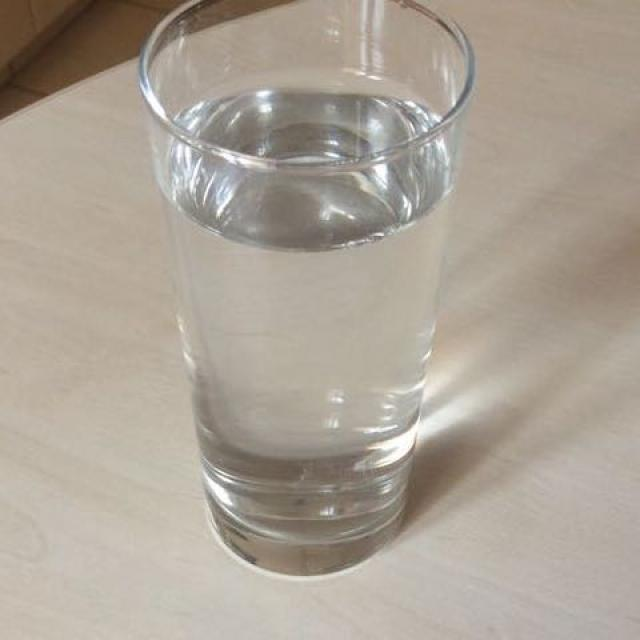water: (166, 102, 450, 519)
